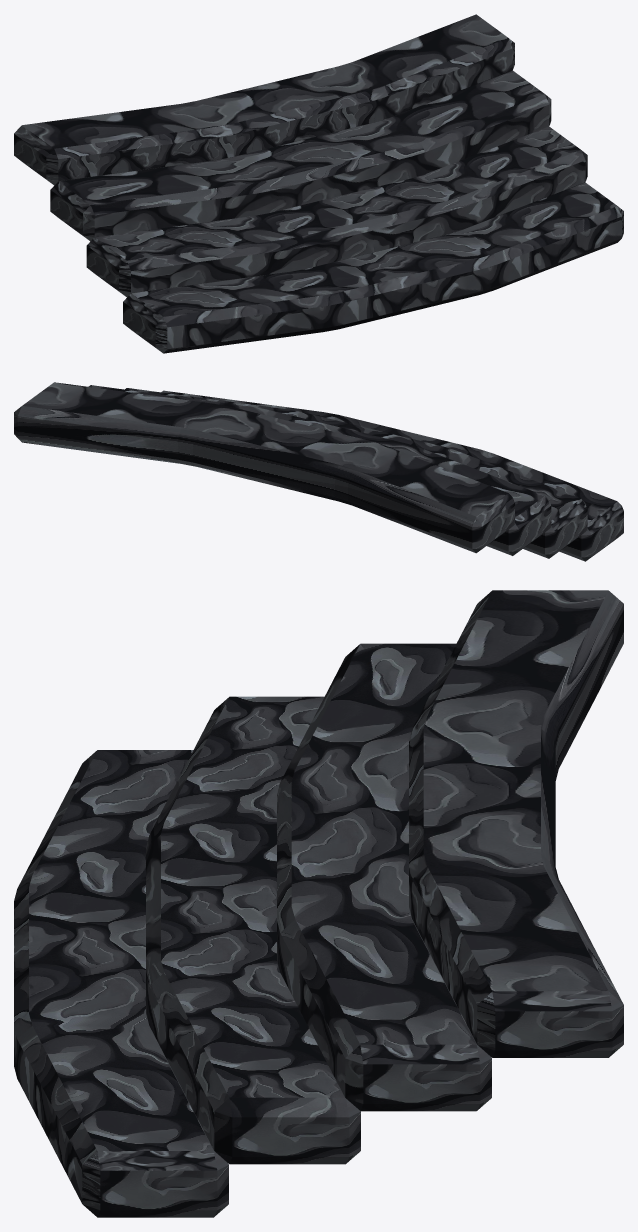
File: stiars part 2 .fbx
3 renders of one model, top to bottom at view 1: azimuth 30°, elevation 25°; view 2: azimuth 150°, elevation 25°; view 3: azimuth 270°, elevation 25°, orthographic. The views are drawn at different scales.
Parts seen in each view (by area): view 1: Cube.002; view 2: Cube.002; view 3: Cube.002.
Boxes of the visible parts, x1,y1,x2,y2 form: Cube.002: [14, 14, 623, 353]; Cube.002: [14, 382, 623, 561]; Cube.002: [14, 590, 623, 1217].
Bounding box in the file's own units: 400 × 102 × 249.
1 material, 1 textured.
